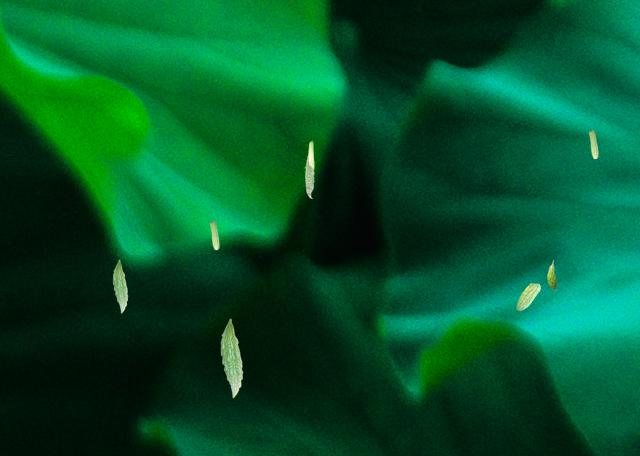ampalaya: (220, 318, 243, 398), (112, 259, 128, 313), (516, 282, 541, 311), (304, 155, 314, 199), (546, 259, 557, 290), (209, 220, 219, 250), (588, 129, 598, 159), (308, 140, 314, 169)
